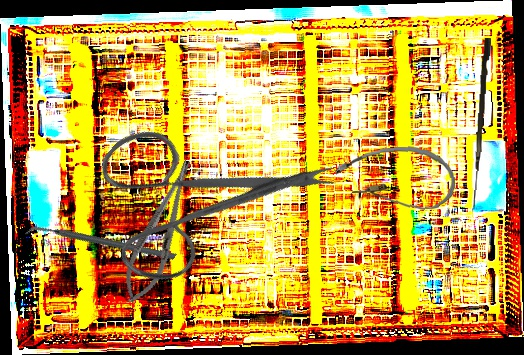Cannula: (333, 143, 457, 216)
Chopper: (24, 175, 178, 313)
Hook Surgical: (472, 37, 492, 209)
Iris Scissors: (59, 46, 345, 334)
Needle Holder: (113, 154, 207, 310)
